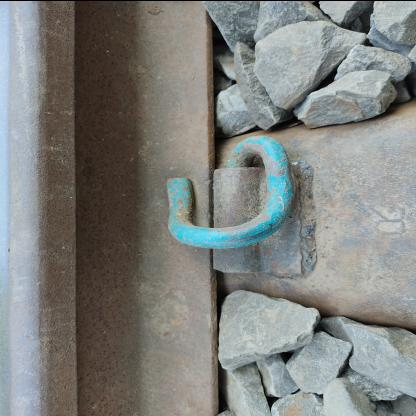Non Defective 1: (145, 113, 321, 295)
